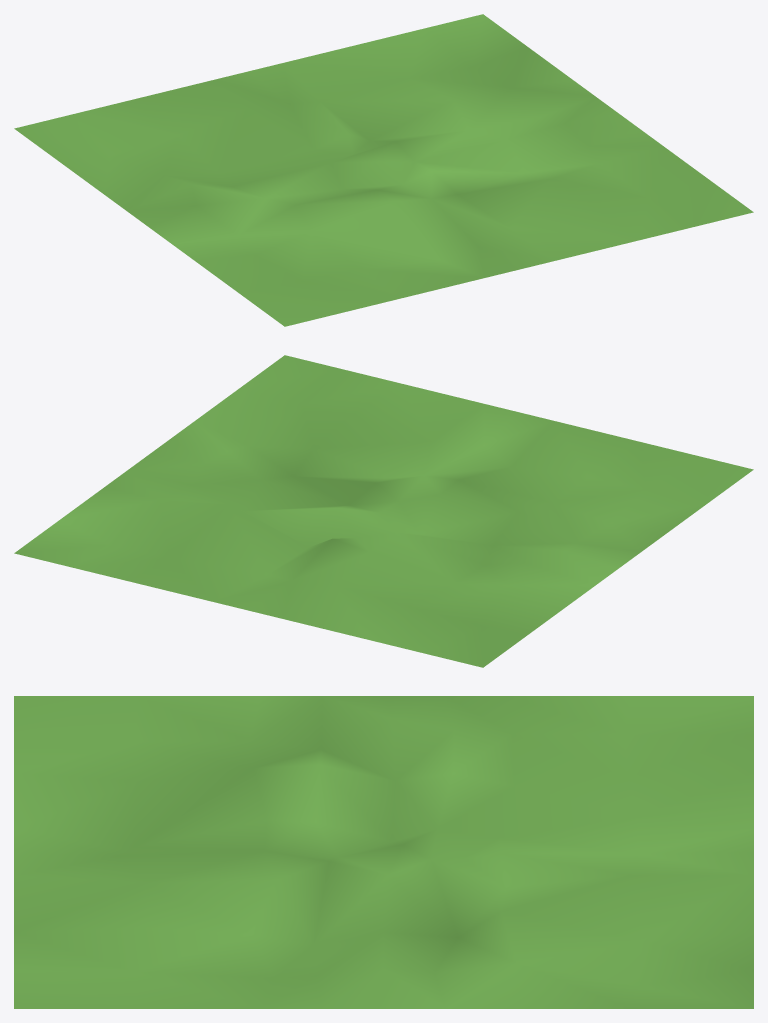
The model's file is ground_01.fbx.
The picture shows the model from 3 angles, top to bottom: view 1: azimuth 30°, elevation 25°; view 2: azimuth 150°, elevation 25°; view 3: azimuth 270°, elevation 25°; orthographic projection. The views are drawn at different scales.
Parts seen in each view (by area): view 1: ground_01; view 2: ground_01; view 3: ground_01.
Part boxes in pixels (left/top/right/bottom): ground_01: left=14, top=14, right=753, bottom=326; ground_01: left=14, top=355, right=753, bottom=667; ground_01: left=14, top=696, right=753, bottom=1008.
Bounding box in the file's own units: 1600 × 81.52 × 1600.
